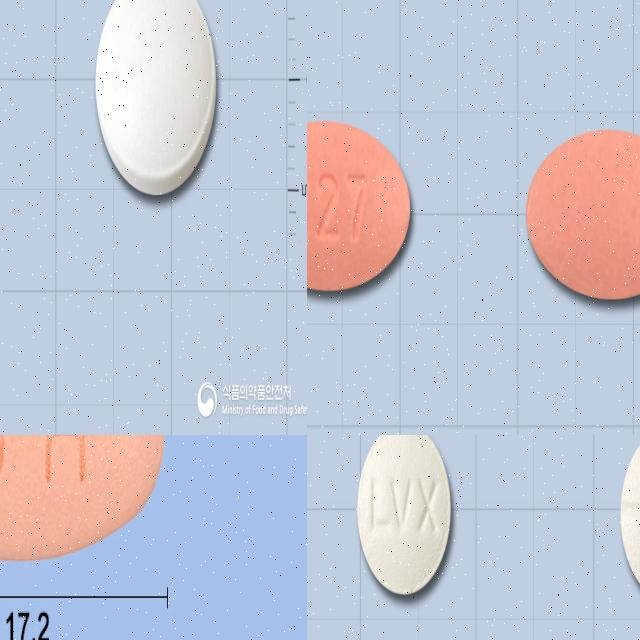Eprosin: (94, 0, 217, 195)
Isentress HD: (525, 126, 640, 299), (307, 119, 411, 291)
Levona: (0, 435, 166, 563)
Reyon Clarithromycin Tab: (356, 435, 452, 596), (620, 435, 640, 601)
